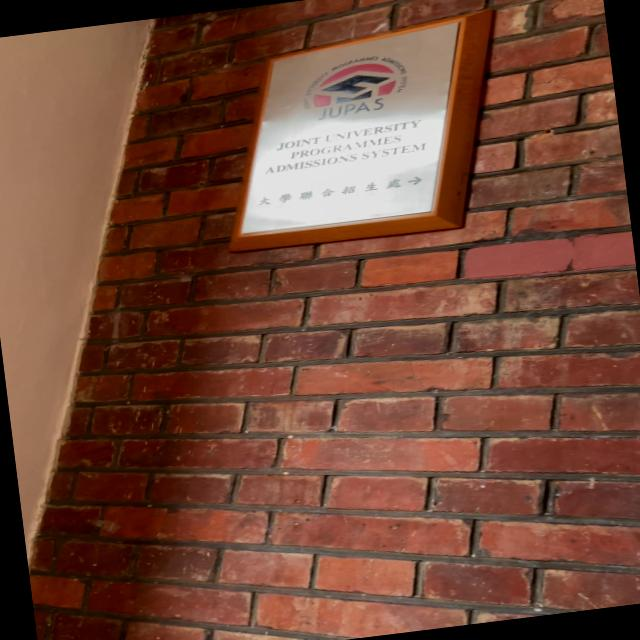jupasOffice: (198, 2, 530, 266)
